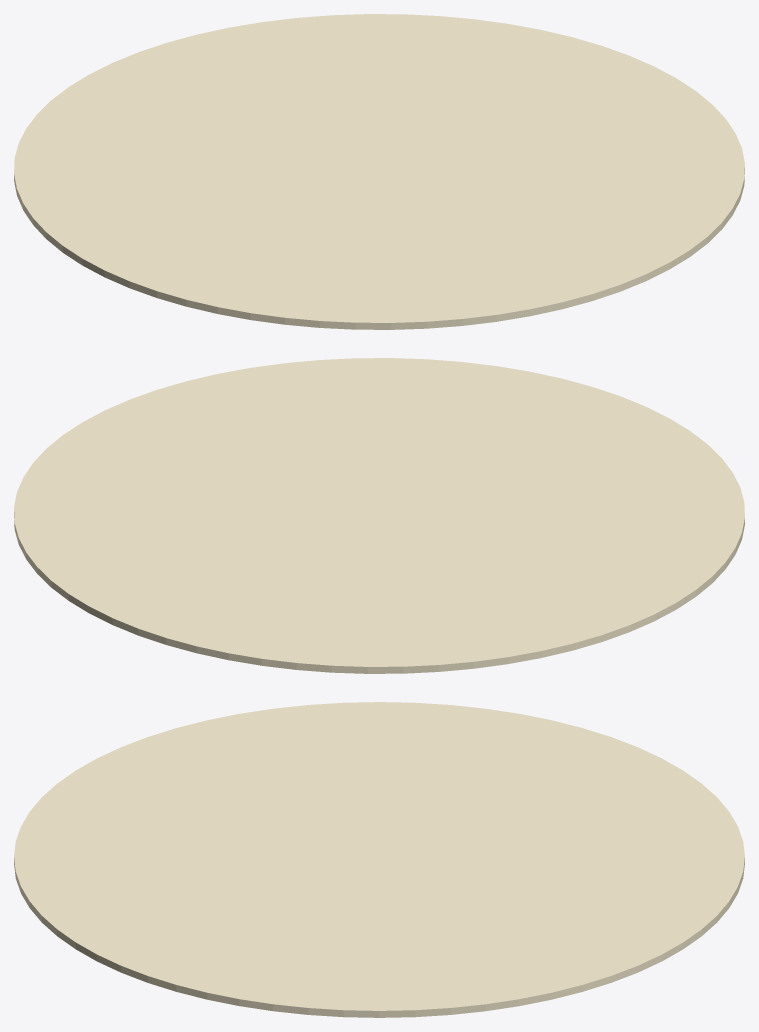
Rendered from FOOD_pho_broth_surface.glb.
3 renders of one model, top to bottom at view 1: azimuth 30°, elevation 25°; view 2: azimuth 150°, elevation 25°; view 3: azimuth 270°, elevation 25°, orthographic.
Parts seen in each view (by area): view 1: BrothSurface; view 2: BrothSurface; view 3: BrothSurface.
Boxes of the visible parts, bbox=[...] form: BrothSurface: bbox=[14, 14, 744, 329]; BrothSurface: bbox=[14, 358, 744, 673]; BrothSurface: bbox=[14, 702, 744, 1017].
Bounding box in the file's own units: 0.38 × 0.004 × 0.38.
